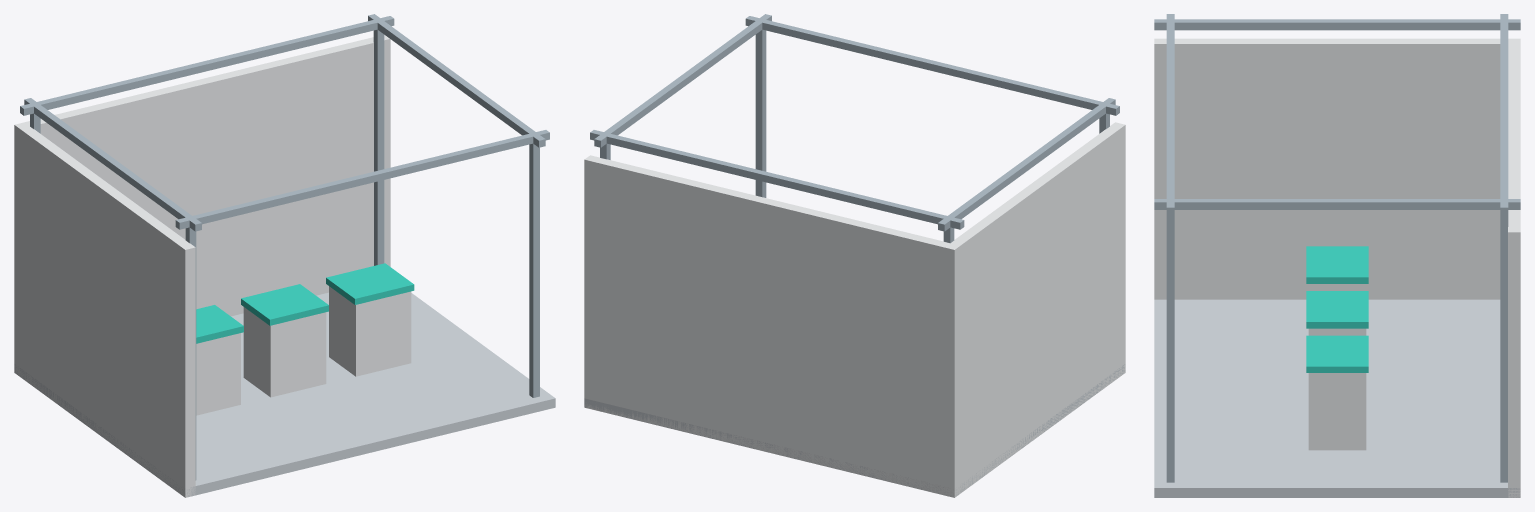
3 renders of one model, left to right at view 1: azimuth 30°, elevation 25°; view 2: azimuth 150°, elevation 25°; view 3: azimuth 270°, elevation 25°, orthographic. The views are drawn at different scales.
Visible parts, largest first — view 1: Exhibition Booth Concept; view 2: Exhibition Booth Concept; view 3: Exhibition Booth Concept.
Boxes of the visible parts, x1,y1,x2,y2 form: Exhibition Booth Concept: [14, 14, 555, 497]; Exhibition Booth Concept: [584, 14, 1125, 497]; Exhibition Booth Concept: [1154, 14, 1520, 497].
Bounding box in the file's own units: 5 × 3.49 × 4.
